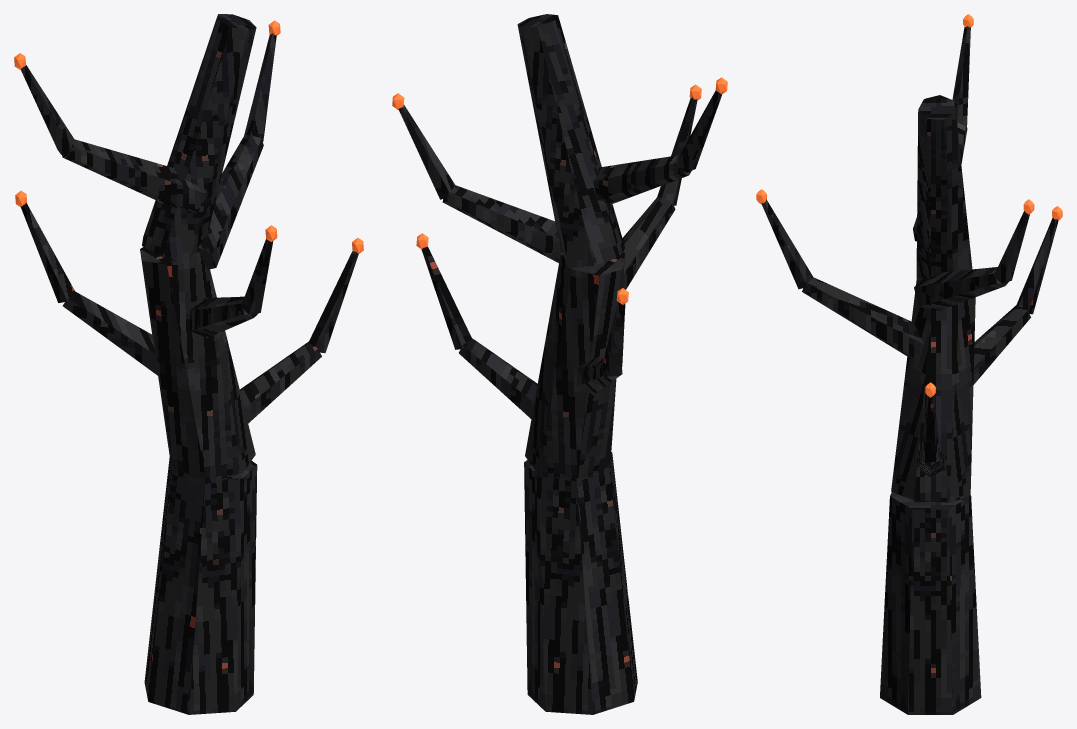
The model's file is arvore.glb.
3 views of the same model, side by side, from view 1: azimuth 30°, elevation 25°; view 2: azimuth 150°, elevation 25°; view 3: azimuth 270°, elevation 25° (orthographic). The views are drawn at different scales.
Visible parts, largest first — view 1: vulcao_arvore; view 2: vulcao_arvore; view 3: vulcao_arvore.
Part boxes in pixels (box(x1,y1,x2,y2)): vulcao_arvore: box(14, 14, 363, 714); vulcao_arvore: box(392, 14, 727, 714); vulcao_arvore: box(756, 14, 1062, 714).
Bounding box in the file's own units: 0.9999 × 1.95 × 0.8829.
Materials: 2 (1 with a texture image).
